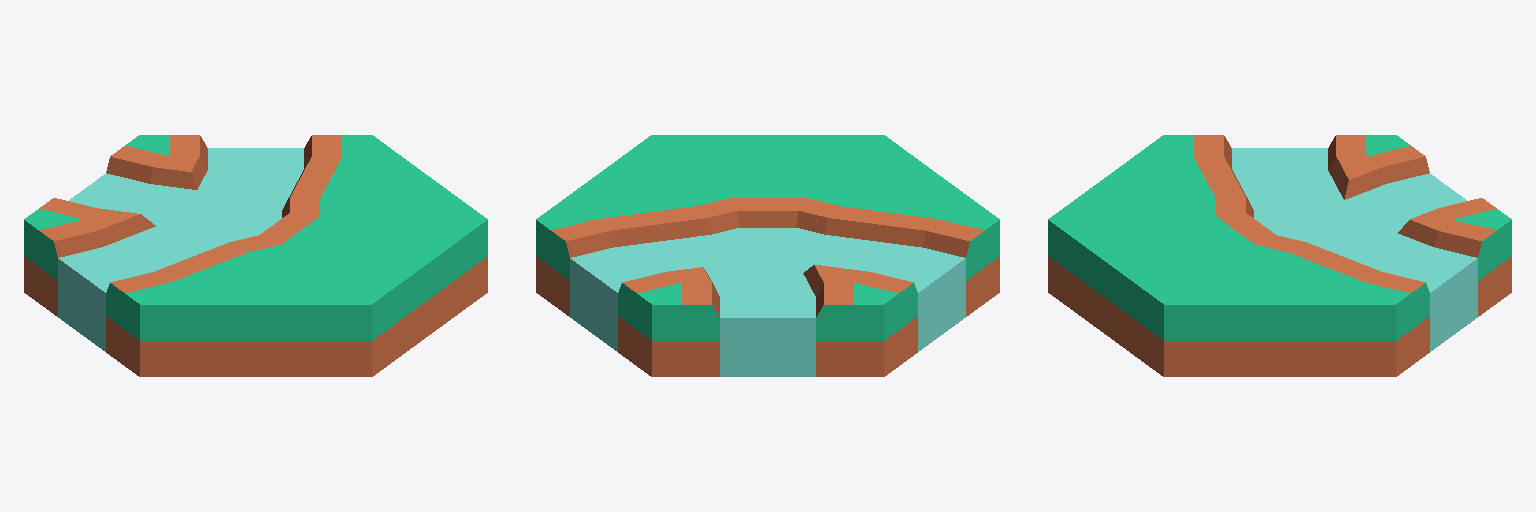
Rendered from river_intersectionA.obj.
3 views of the same model, side by side, from view 1: azimuth 30°, elevation 25°; view 2: azimuth 150°, elevation 25°; view 3: azimuth 270°, elevation 25° (orthographic).
Visible parts, largest first — view 1: river_intersectionA; view 2: river_intersectionA; view 3: river_intersectionA.
Part boxes in pixels (x1,y1,x2,y2): river_intersectionA: (24, 135, 487, 376); river_intersectionA: (536, 135, 999, 376); river_intersectionA: (1048, 135, 1511, 376).
Size of the model in its own units: 1 by 0.2 by 1.15.